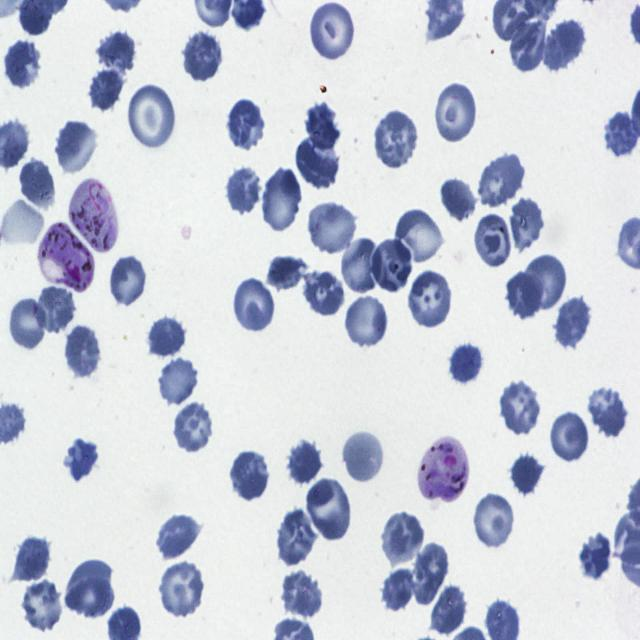red blood cell: (128, 81, 176, 150), (306, 476, 354, 544), (64, 558, 116, 620), (158, 558, 207, 620), (308, 0, 356, 63), (477, 148, 527, 208), (262, 166, 304, 236), (406, 268, 454, 329), (433, 80, 478, 145), (394, 208, 446, 264), (520, 251, 568, 311), (307, 199, 357, 256), (372, 109, 420, 168), (340, 234, 384, 296), (53, 118, 100, 176), (368, 235, 414, 294), (410, 542, 451, 607), (344, 294, 390, 350), (19, 577, 64, 634), (498, 378, 542, 436), (472, 492, 516, 550), (295, 136, 341, 190), (380, 510, 425, 565), (232, 277, 276, 333), (506, 192, 542, 259), (342, 428, 385, 484), (474, 211, 514, 271), (33, 283, 77, 337), (508, 17, 548, 76), (549, 410, 591, 466), (278, 567, 324, 618), (274, 512, 314, 570), (588, 385, 629, 440), (172, 402, 215, 454), (97, 25, 138, 79), (302, 268, 346, 318), (2, 34, 40, 91), (156, 512, 203, 558), (224, 164, 264, 218), (226, 98, 266, 152), (546, 16, 586, 70), (182, 29, 223, 81), (430, 581, 468, 637), (230, 449, 270, 502), (64, 323, 101, 380), (109, 253, 148, 307), (554, 294, 592, 349), (158, 354, 198, 405), (12, 534, 52, 584), (283, 438, 322, 489), (146, 313, 186, 362), (20, 162, 60, 210), (576, 532, 614, 582), (505, 270, 542, 320), (62, 434, 100, 482), (505, 449, 544, 494), (604, 108, 639, 158), (379, 568, 416, 614), (11, 297, 45, 347), (450, 341, 486, 388), (86, 67, 122, 114), (306, 101, 339, 150), (440, 177, 475, 222), (267, 255, 306, 291)
trophozoite: (67, 174, 120, 254), (40, 218, 96, 291), (416, 434, 467, 503)
